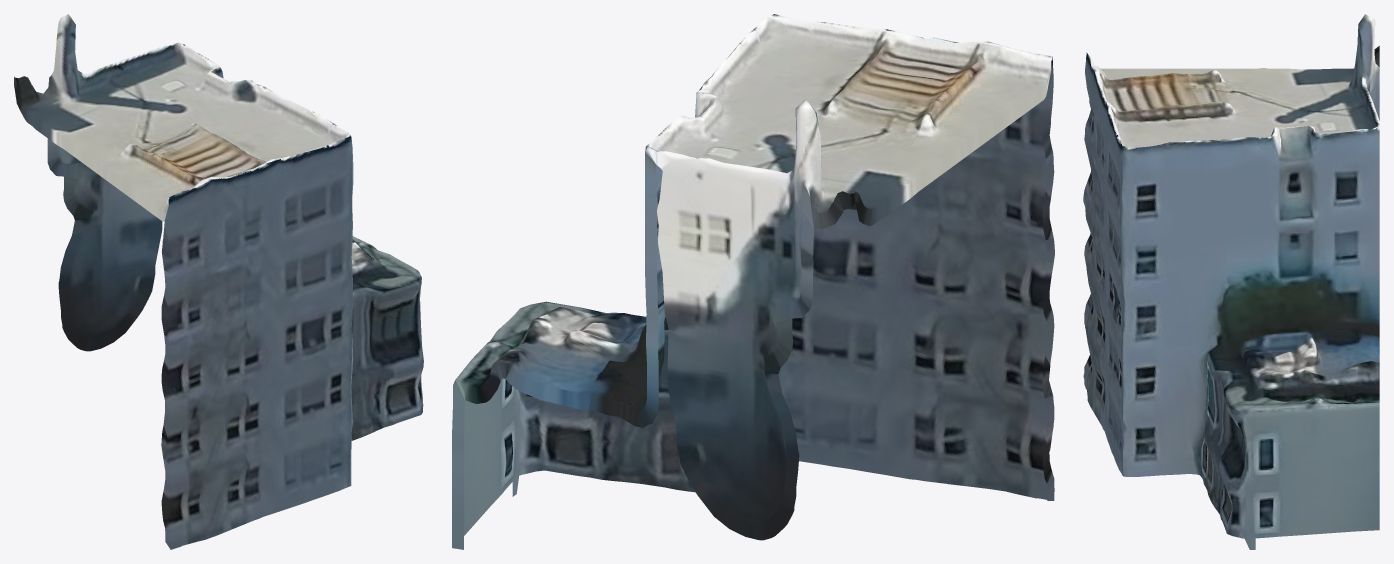
File: z20-167721-405197-h1-yup-uvflip-v3-world.glb
The picture shows the model from 3 angles, left to right: view 1: azimuth 30°, elevation 25°; view 2: azimuth 150°, elevation 25°; view 3: azimuth 270°, elevation 25°; orthographic projection. The views are drawn at different scales.
Bounding box in the file's own units: 17.28 × 20.96 × 13.96.
1 material, 1 textured.
